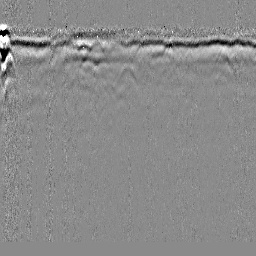cavity: (117, 61, 139, 87)
